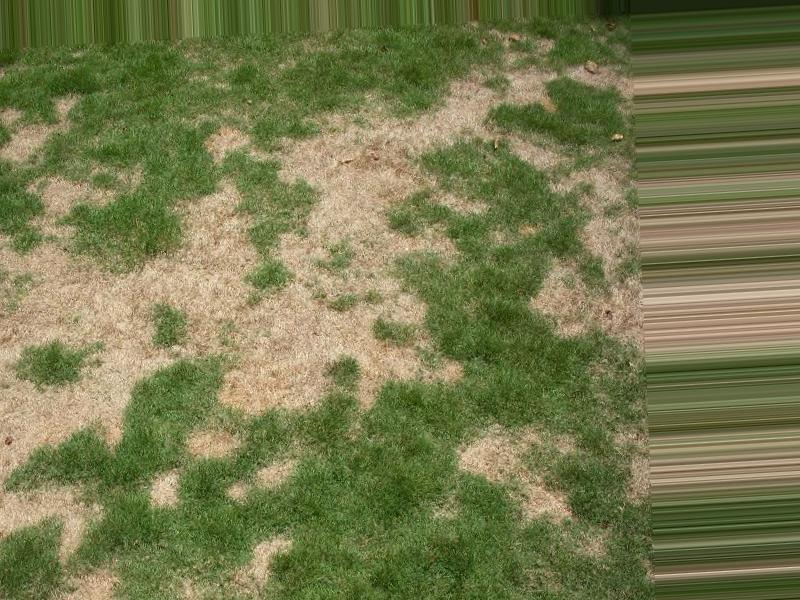patch: (193, 200, 382, 385), (29, 264, 145, 420), (313, 133, 414, 203)
